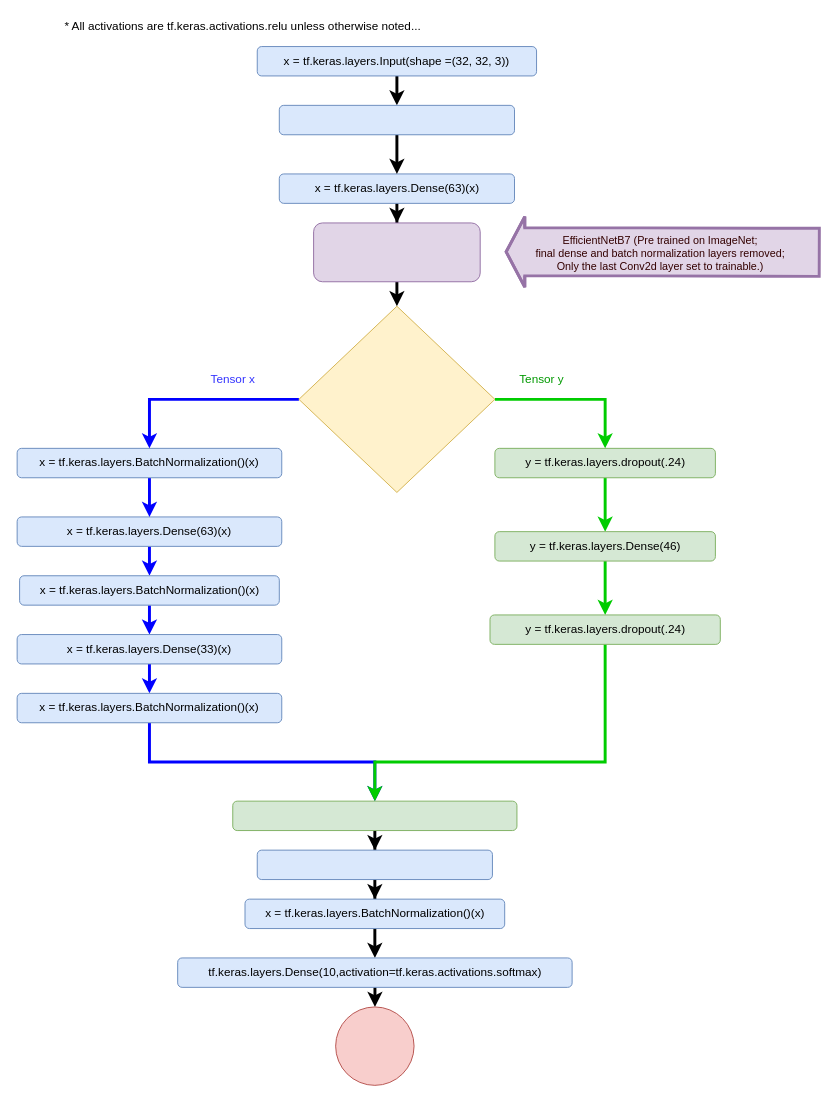
Image size: 838x1103. Some labels were removed from this diagram. Each missing label, with the box of its shape:
Predictions (10): (335, 1006, 414, 1085)
x = base_model(x): (313, 222, 480, 282)
x = tf . keras . layers . Concatenate ( axis = 1 )([x,y]): (232, 800, 517, 831)
x = tf . keras . layers . Resizing ()(x): (278, 104, 514, 135)
x = tf.keras.layers.Dense(150)(x): (256, 849, 492, 880)
y = x (Split output of first dense layer into 2 identical tensors.): (298, 305, 495, 492)
